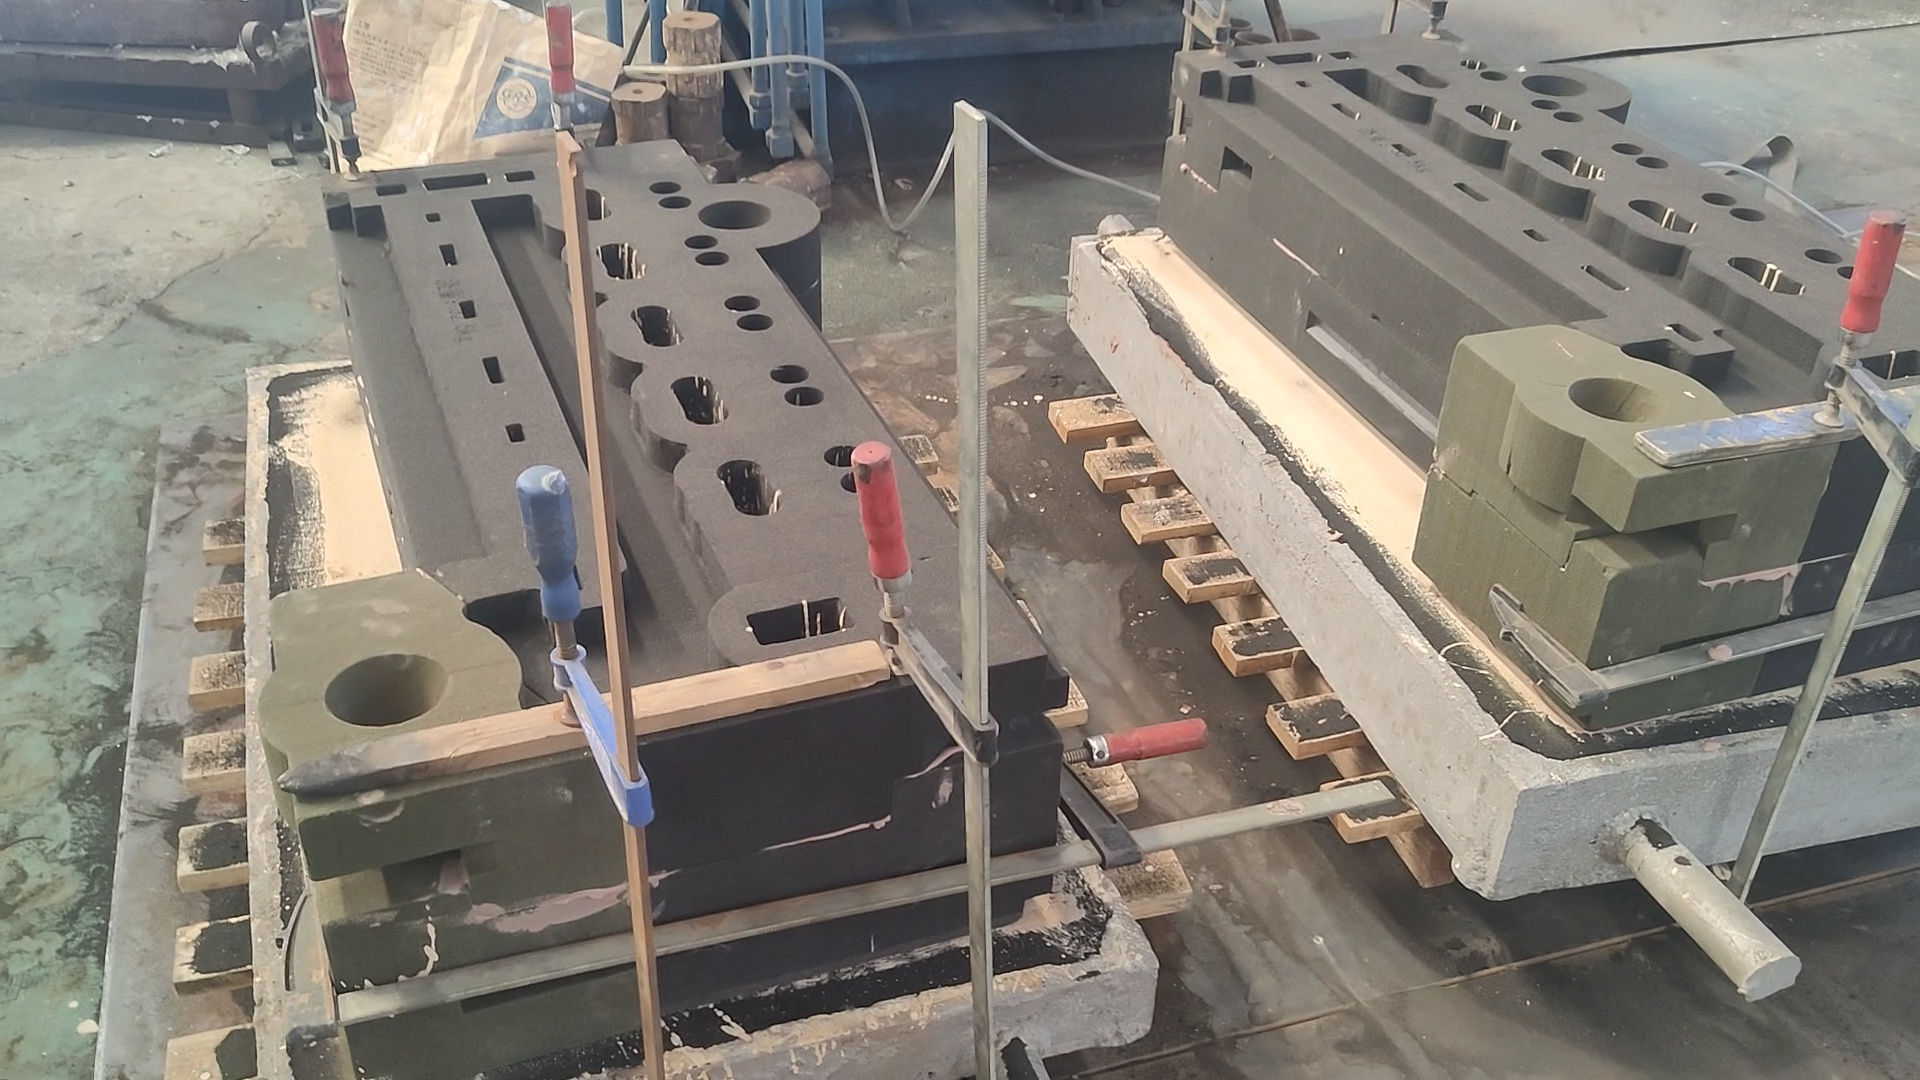pouring hole: (323, 653, 448, 727), (1568, 378, 1667, 425), (698, 200, 773, 229), (1520, 73, 1588, 98), (1275, 26, 1323, 45), (1236, 29, 1275, 47), (1211, 16, 1253, 32), (1193, 33, 1234, 47)
